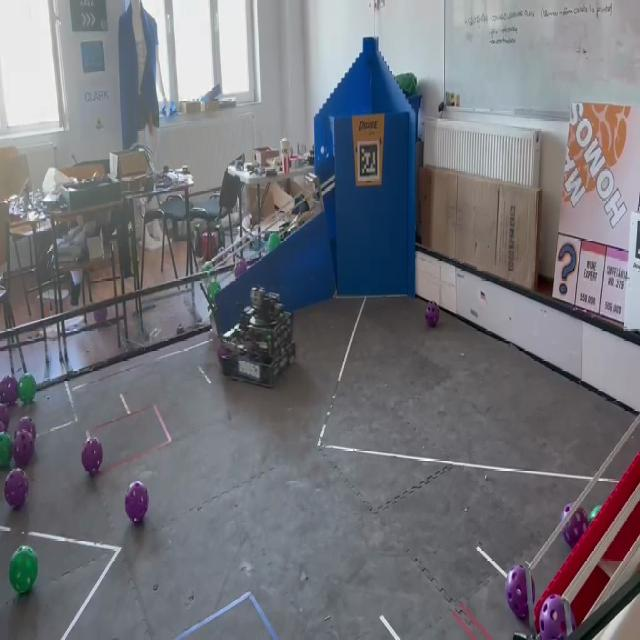artifact_green: (10, 546, 38, 594), (19, 374, 36, 404), (0, 433, 12, 468), (208, 281, 221, 299), (589, 506, 601, 524), (269, 233, 280, 252), (202, 264, 213, 277), (513, 633, 532, 639), (267, 335, 271, 343)
artifact_purple: (539, 595, 568, 639), (505, 565, 528, 619), (562, 504, 588, 548), (125, 482, 148, 524), (5, 469, 28, 508), (82, 437, 103, 476), (13, 431, 34, 467), (0, 376, 18, 405), (17, 417, 36, 441), (425, 302, 439, 327), (217, 345, 232, 363), (0, 404, 9, 432), (94, 308, 108, 324), (235, 259, 247, 277)
